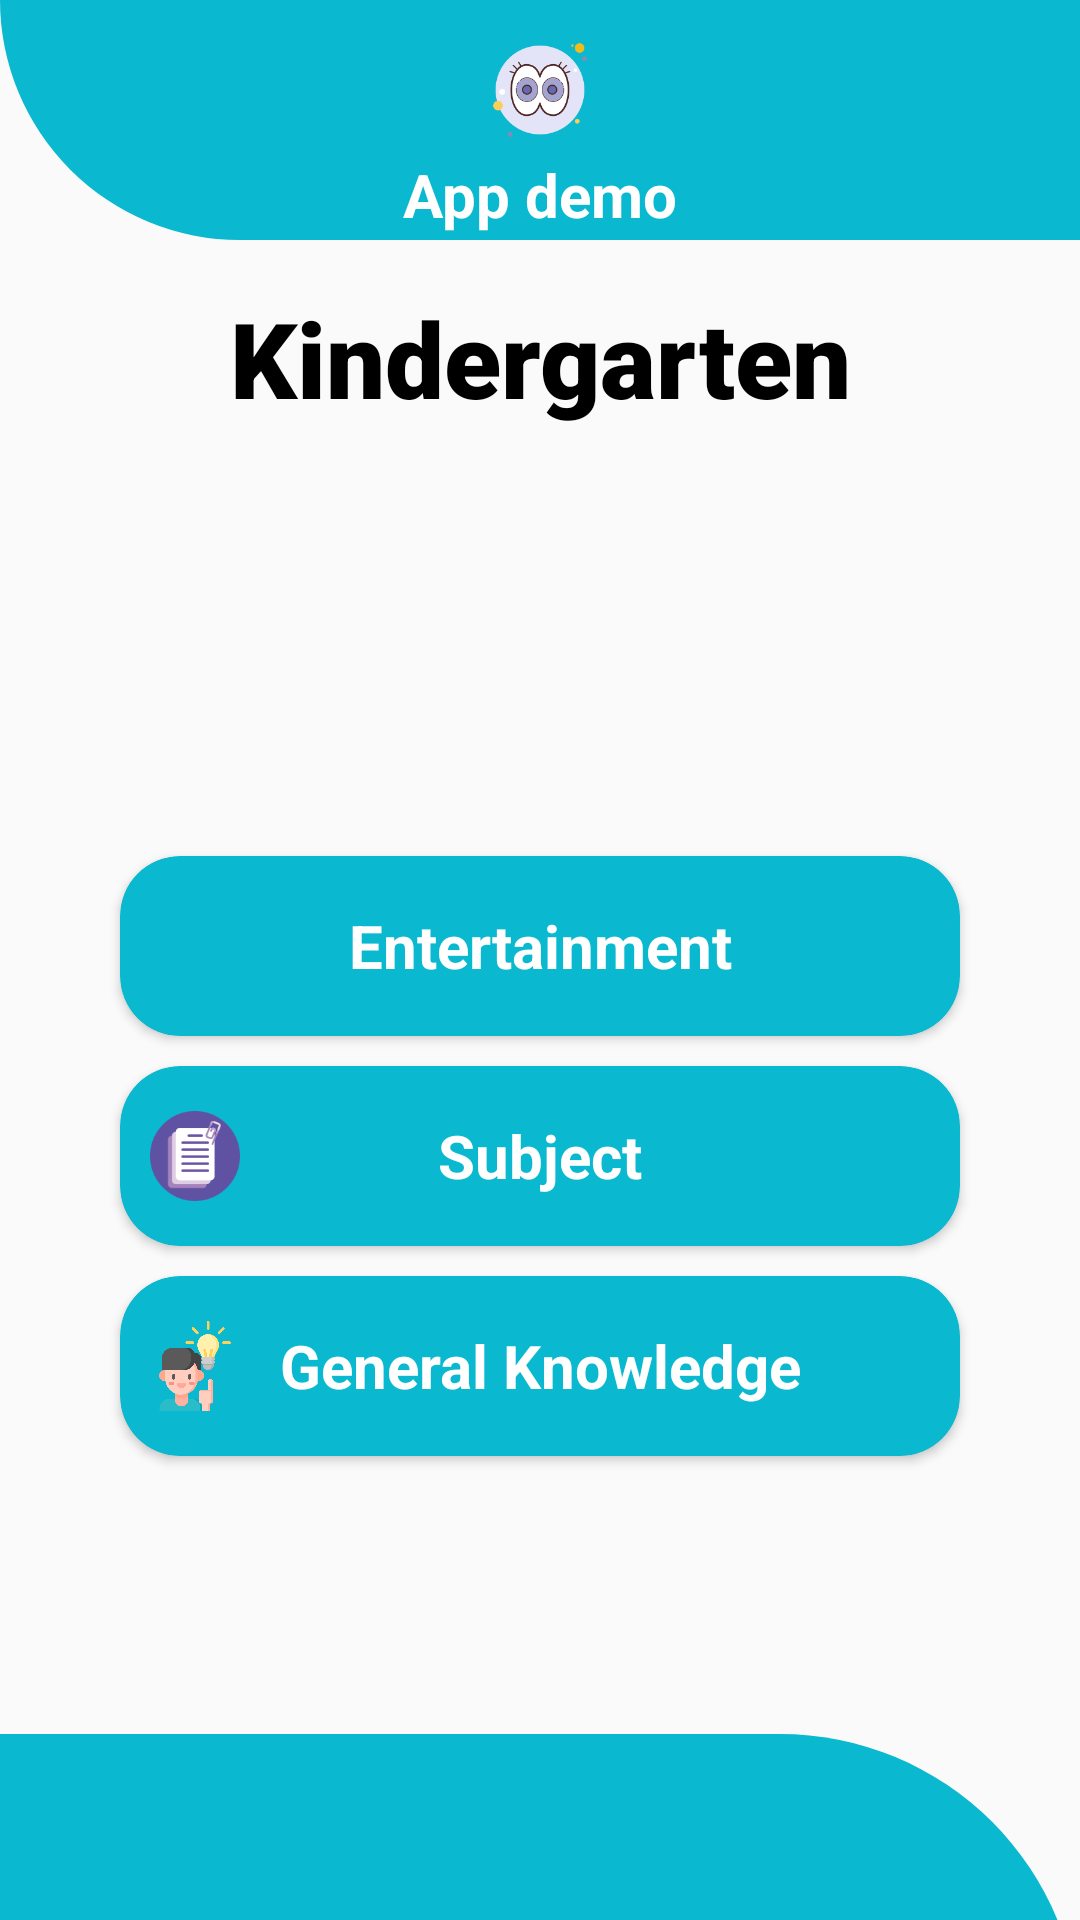

Named icons in this screenshot (1080w x 1920h) and their bounding boxes, bbox=(x1, y1, x2, y2):
idea: bbox=(159, 1321, 231, 1411)
